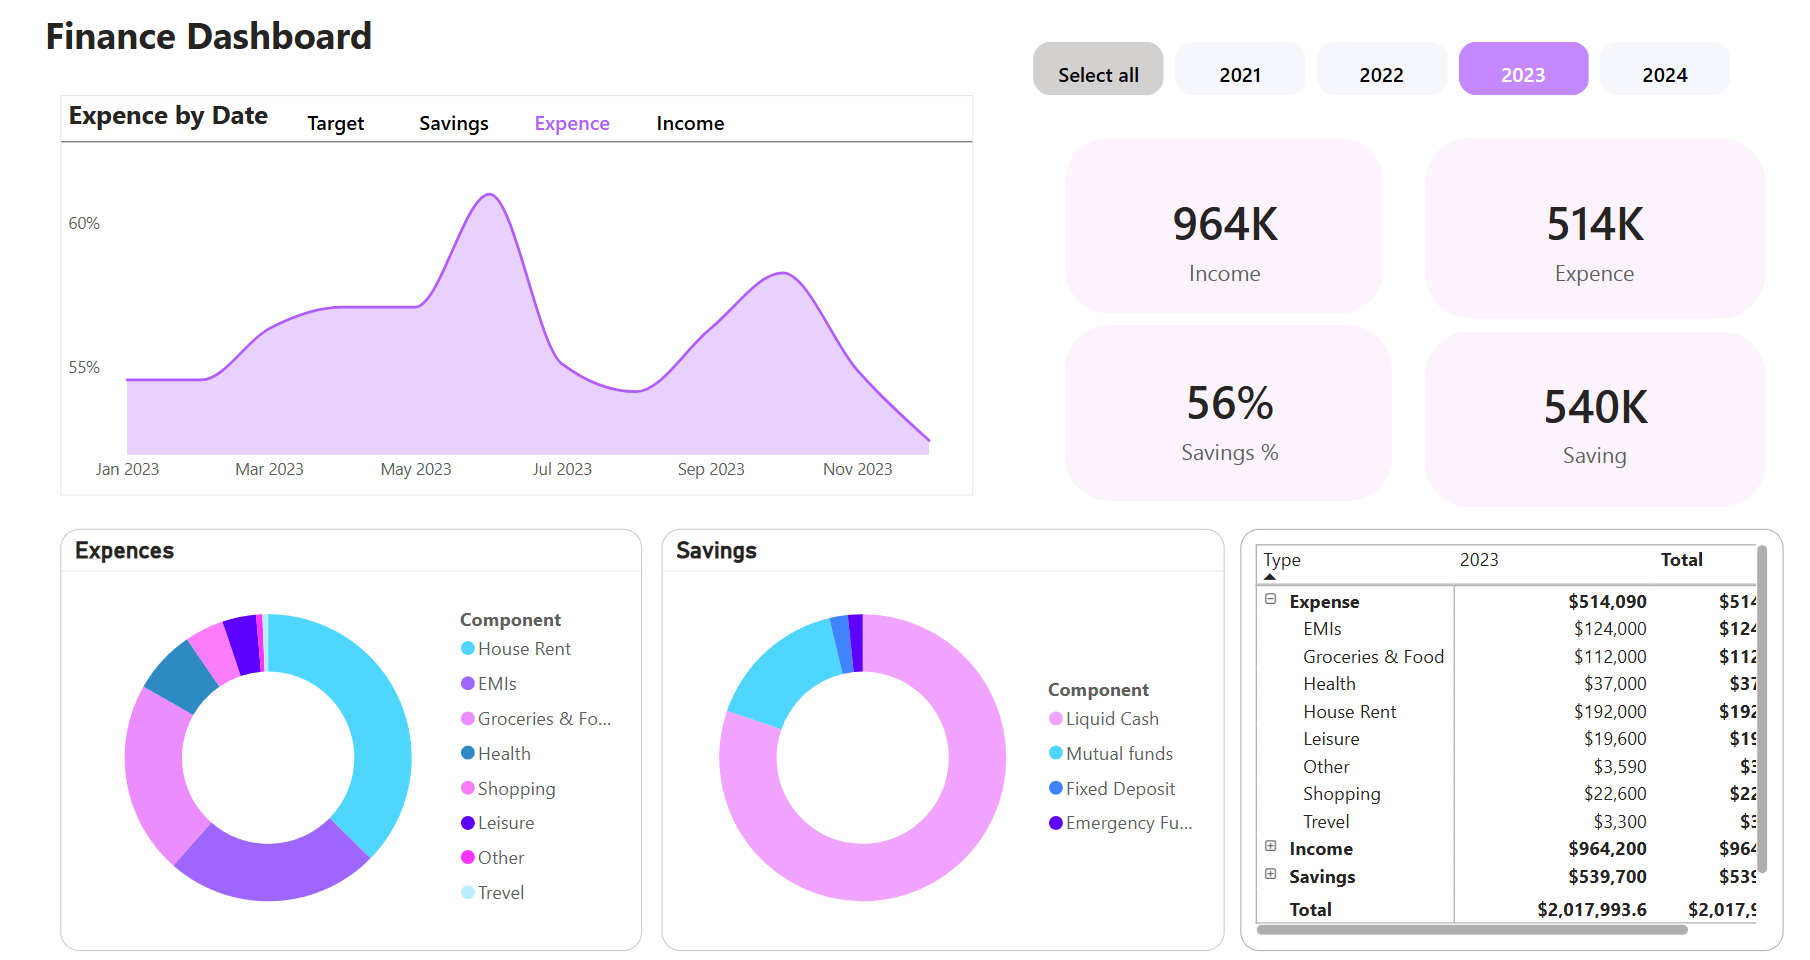

This screenshot's page, from the dashboard's own definition file:
{"tool":"powerbi","page":{"name":"Page 1","canvas":[1280,720],"ordinal":0},"visuals":[{"type":"shape","box":[1018.8,114.4,247.5,131.9],"z":0},{"type":"shape","box":[757.6,114.4,231.4,128.1],"z":1000},{"type":"shape","box":[1018.8,255,247.5,128.1],"z":2000},{"type":"shape","box":[757.6,251.3,237.6,128.1],"z":3000},{"type":"card","fields":{"Values":["FinData.Expence"]},"box":[1081,133.1,123.2,109.5],"z":4000},{"type":"card","fields":{"Values":["FinData.Income"]},"box":[802.4,146.8,141.8,82.1],"z":5000},{"type":"card","fields":{"Values":["FinData.Saving%"]},"box":[806.1,263.7,141.8,108.2],"z":6000},{"type":"card","fields":{"Values":["FinData.Saving"]},"box":[1069.8,263.7,145.5,113.2],"z":7000},{"type":"advancedSlicerVisual","fields":{"Values":["FinData.Year"]},"box":[729,39.8,520,49.8],"z":8000},{"type":"donutChart","title":"Savings","fields":{"Category":["FinData.Component"],"Y":["FinData.Saving"]},"box":[464,399.3,409.3,307.3],"z":9000},{"type":"donutChart","title":"Expences","fields":{"Category":["FinData.Component"],"Y":["FinData.Expence"]},"box":[26.1,399.3,422.9,307.3],"z":10000},{"type":"pivotTable","fields":{"Rows":["FinData.Type","FinData.Component"],"Values":["FinData.Totalvalue"],"Columns":["FinData.Year"]},"box":[884.5,399.3,395.6,307.3],"z":11000},{"type":"areaChart","fields":{"Category":["FinData.Date"],"Y":["FinData.line_chart_measure"]},"box":[26.1,83.3,664.3,291.1],"z":12000},{"type":"advancedSlicerVisual","fields":{"Values":["line_selection.Type"]},"box":[182.9,58.5,436.6,63.4],"z":13000},{"type":"textbox","box":[10,16.2,376.9,47.3],"z":14000}]}

Visuals, with their boxes on the page's 1280x720 design canvas (x1, y1, x2, y2). These are canvas units, not pixel positions in the 1810x960 screenshot, which may show the page scaled, cropped or inside an application window:
shape: region(1019, 114, 1266, 246)
shape: region(758, 114, 989, 242)
shape: region(1019, 255, 1266, 383)
shape: region(758, 251, 995, 379)
card - FinData.Expence: region(1081, 133, 1204, 243)
card - FinData.Income: region(802, 147, 944, 229)
card - FinData.Saving%: region(806, 264, 948, 372)
card - FinData.Saving: region(1070, 264, 1215, 377)
advancedSlicerVisual - FinData.Year: region(729, 40, 1249, 90)
"Savings" donutChart: region(464, 399, 873, 707)
"Expences" donutChart: region(26, 399, 449, 707)
pivotTable - FinData.Type x FinData.Component: region(884, 399, 1280, 707)
areaChart - FinData.Date x FinData.line_chart_measure: region(26, 83, 690, 374)
advancedSlicerVisual - line_selection.Type: region(183, 58, 620, 122)
textbox: region(10, 16, 387, 64)
